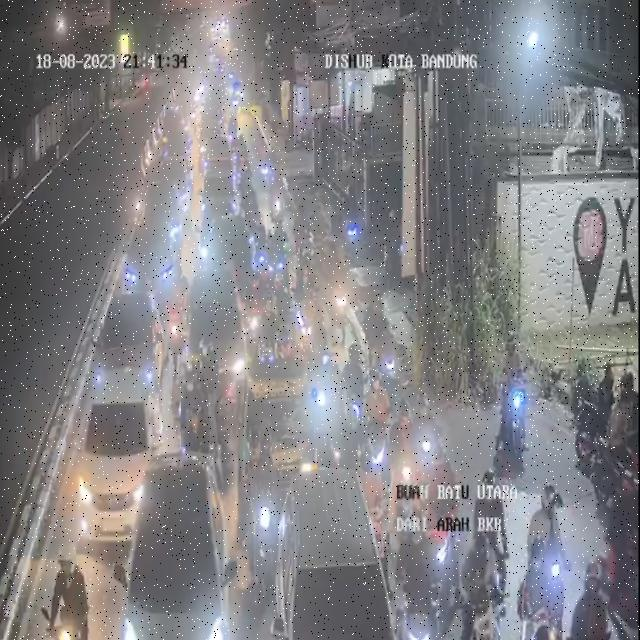cars: (128, 447, 237, 639), (283, 469, 403, 640), (69, 361, 159, 550), (94, 282, 164, 405), (186, 265, 244, 405), (123, 214, 180, 317), (212, 207, 249, 298), (199, 164, 235, 234), (165, 110, 193, 179), (206, 133, 231, 169)
motorcycle: (527, 482, 573, 636), (247, 423, 287, 591), (398, 486, 436, 638), (494, 330, 534, 468), (386, 400, 418, 561), (46, 554, 93, 640), (462, 527, 497, 640), (363, 364, 392, 488), (569, 552, 608, 638), (191, 341, 216, 445), (182, 355, 210, 447), (342, 341, 366, 448), (417, 395, 446, 482), (290, 192, 316, 287), (185, 404, 215, 479), (329, 245, 354, 329), (166, 270, 187, 362), (198, 338, 222, 418), (270, 211, 292, 295), (294, 258, 314, 346), (171, 152, 192, 224), (189, 207, 207, 287), (521, 607, 563, 640), (195, 212, 212, 291), (246, 260, 265, 328), (171, 267, 189, 332), (320, 321, 336, 386), (265, 168, 283, 224), (246, 177, 264, 230), (260, 145, 276, 196), (237, 128, 251, 162)
